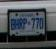0: (39, 17, 43, 29)
7: (31, 17, 35, 29), (35, 17, 39, 29)
E: (11, 18, 15, 30)
